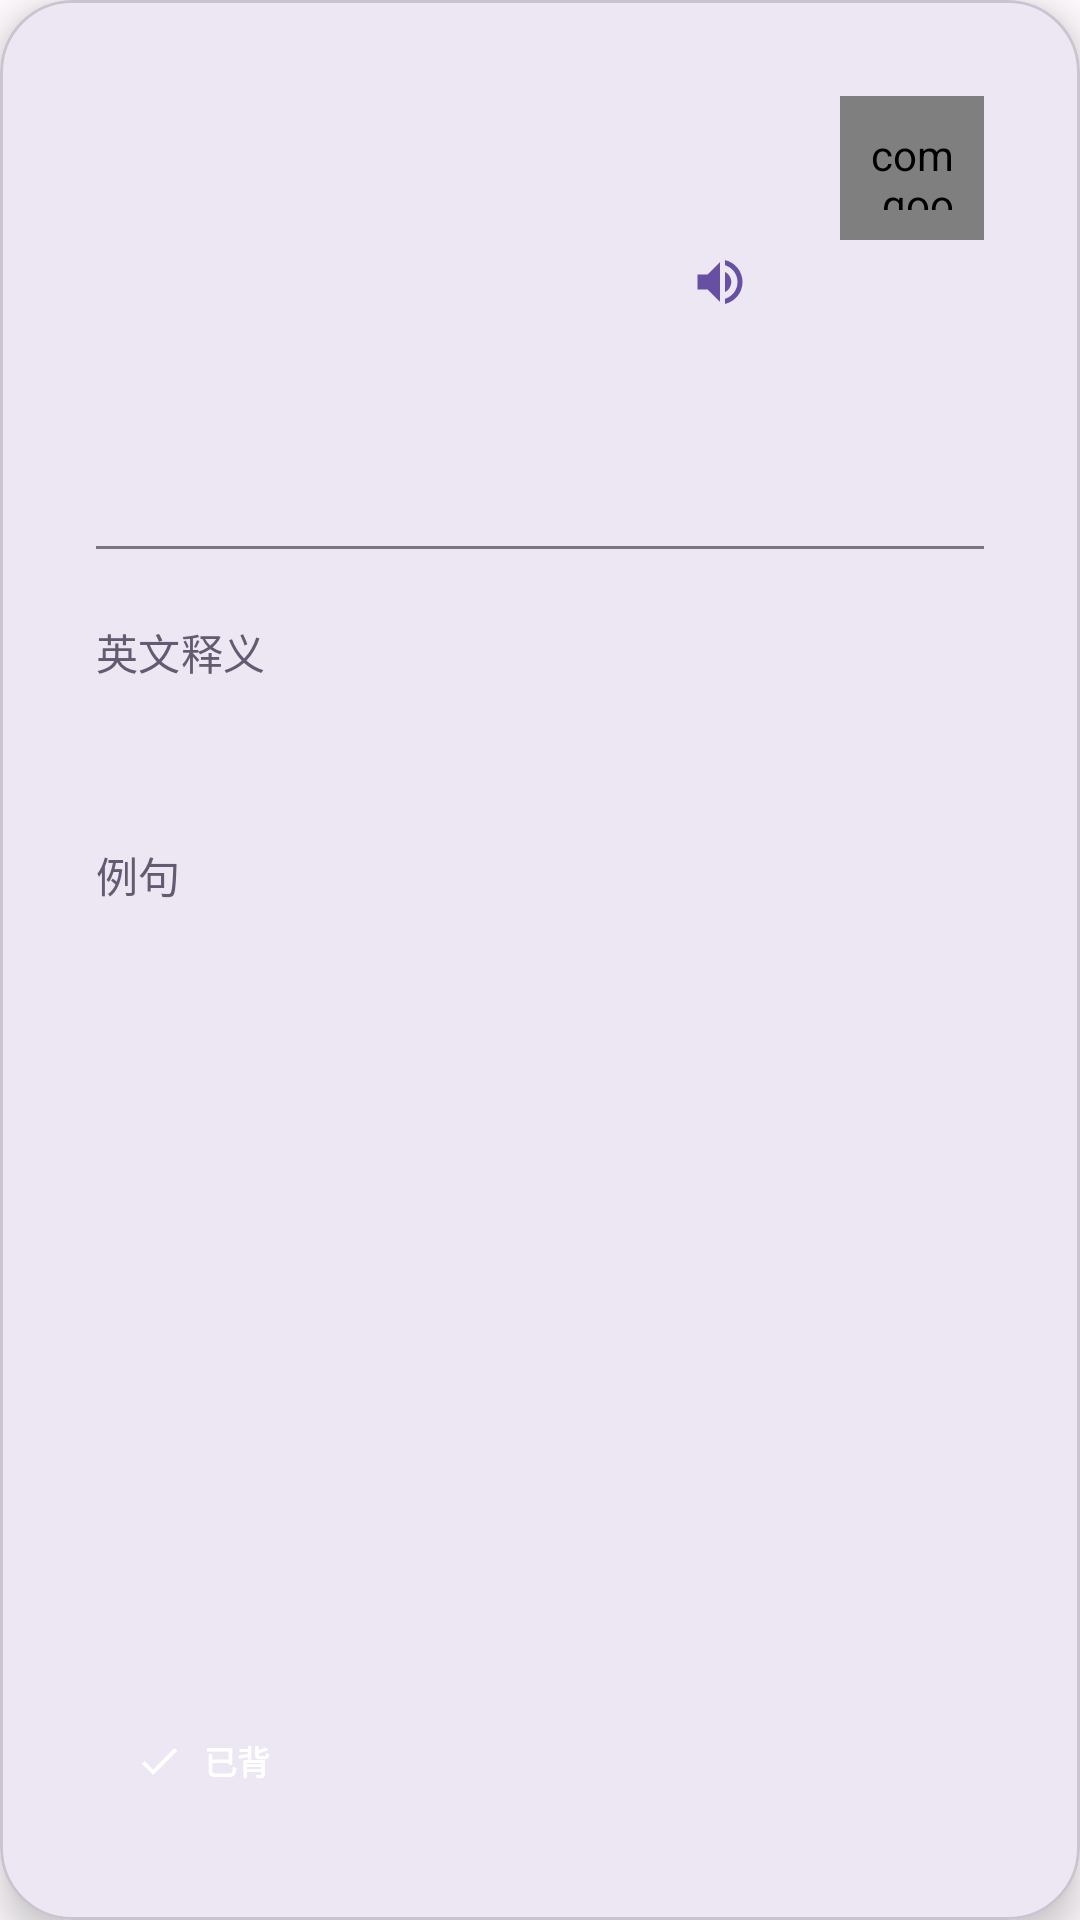

Icon click points for this 1080*1920 phone screenshot, format (x,y):
memorized: (159,1761)
speak: (720,282)
